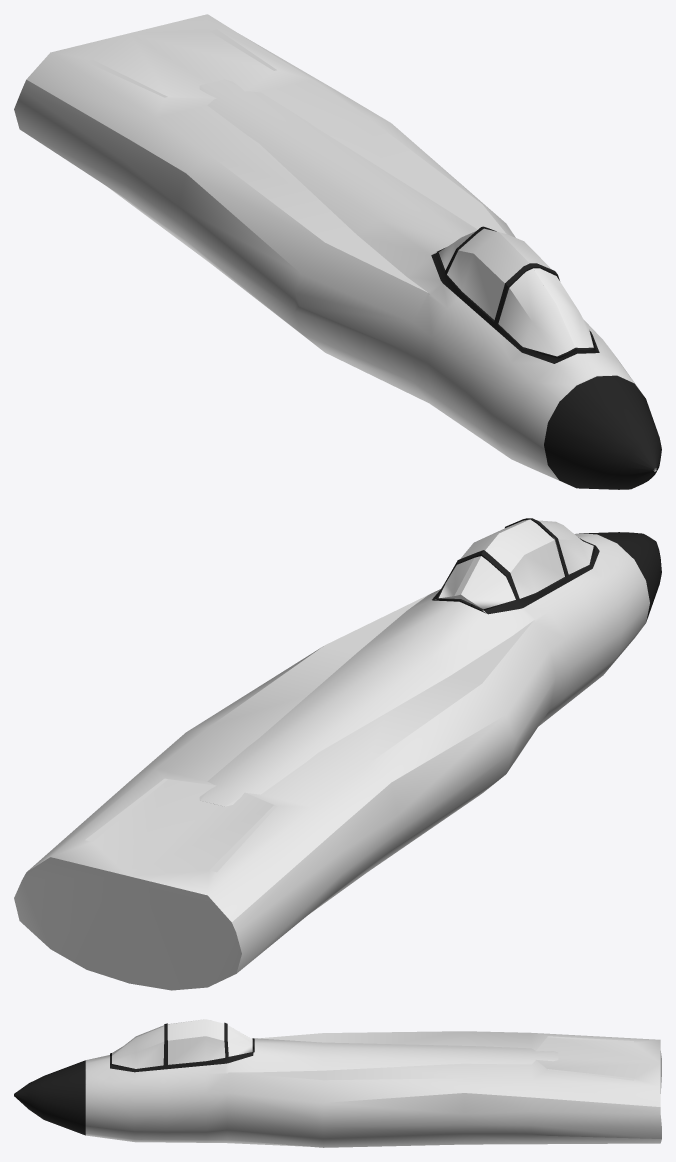
The model's file is 1_Body.fbx.
3 views of the same model, one above another, from view 1: azimuth 30°, elevation 25°; view 2: azimuth 150°, elevation 25°; view 3: azimuth 270°, elevation 25° (orthographic). The views are drawn at different scales.
Visible parts, largest first — view 1: 1_Body; view 2: 1_Body; view 3: 1_Body.
Part boxes in pixels (left/top/right/bottom): 1_Body: left=14, top=14, right=661, bottom=489; 1_Body: left=14, top=518, right=661, bottom=990; 1_Body: left=14, top=1019, right=661, bottom=1147.
Size of the model in its own units: 0.6888 by 0.5595 by 2.76.
